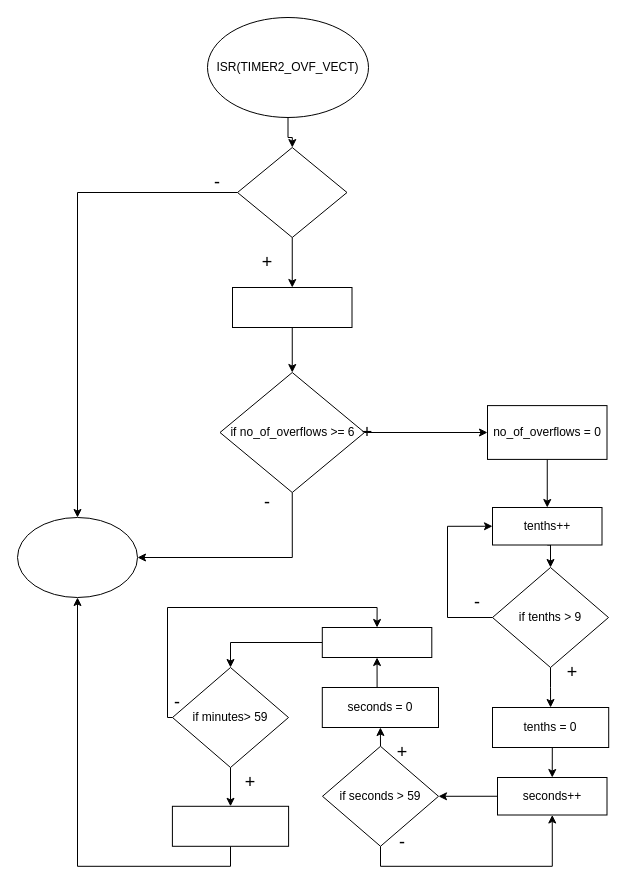
Image size: 627x892. Some labels were removed from this diagram. Here are the shapes that lost their labels. From the top down, the centre of each, then its label:
the point at 291,192: cnt_js == 0
the point at 292,307: no_of_overflows++
the point at 77,557: End
the point at 376,642: minutes++
the point at 230,825: minutes = 0
